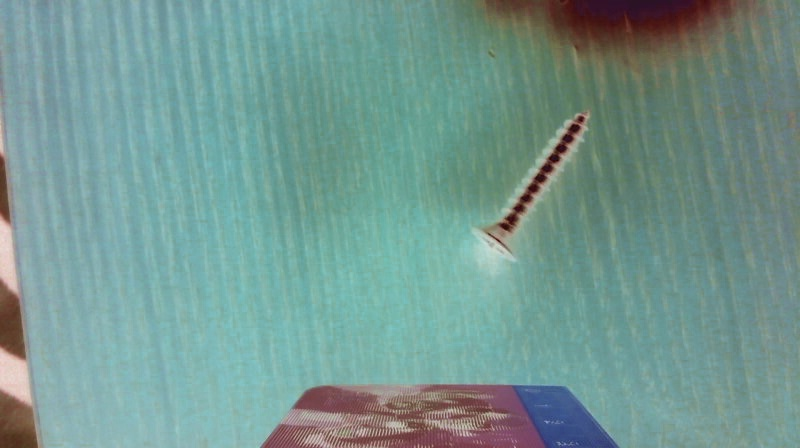S001: (466, 106, 593, 265)
